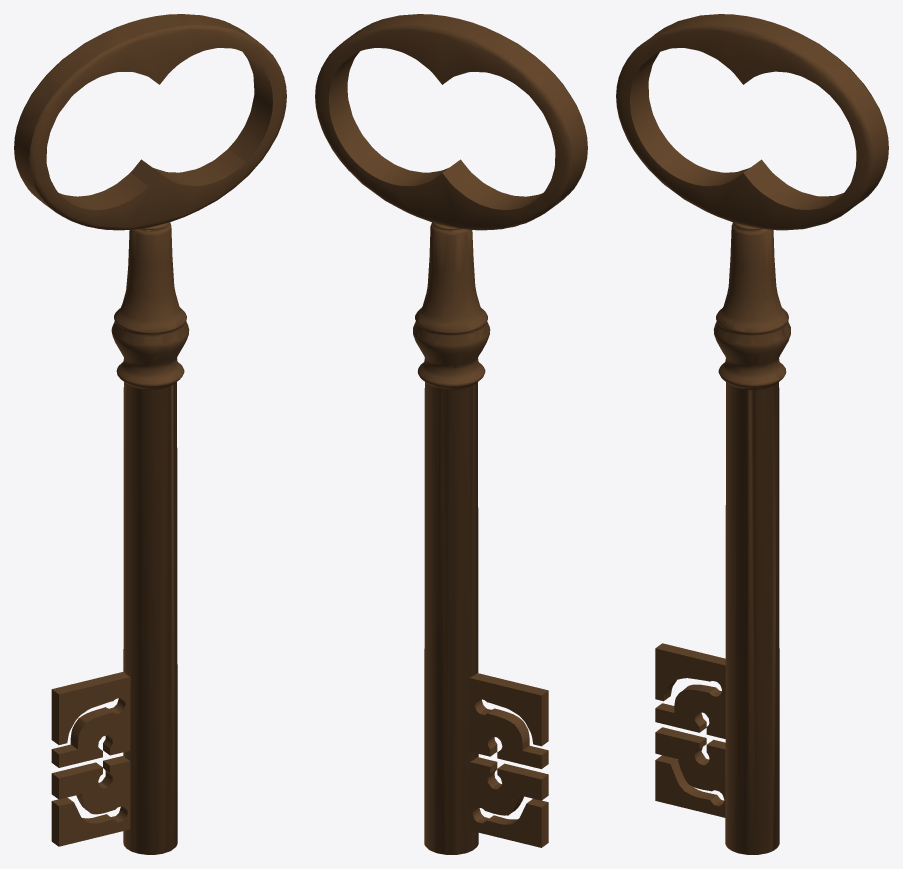
File: key_08_plain_skeleton.glb
3 renders of one model, left to right at view 1: azimuth 30°, elevation 25°; view 2: azimuth 150°, elevation 25°; view 3: azimuth 330°, elevation 25°, orthographic.
Visible parts, largest first — view 1: Key; view 2: Key; view 3: Key.
Boxes of the visible parts, x1,y1,x2,y2 form: Key: (14, 14, 286, 854); Key: (315, 14, 587, 854); Key: (616, 14, 888, 854).
Bounding box in the file's own units: 0.0491 × 0.15 × 0.0128.
